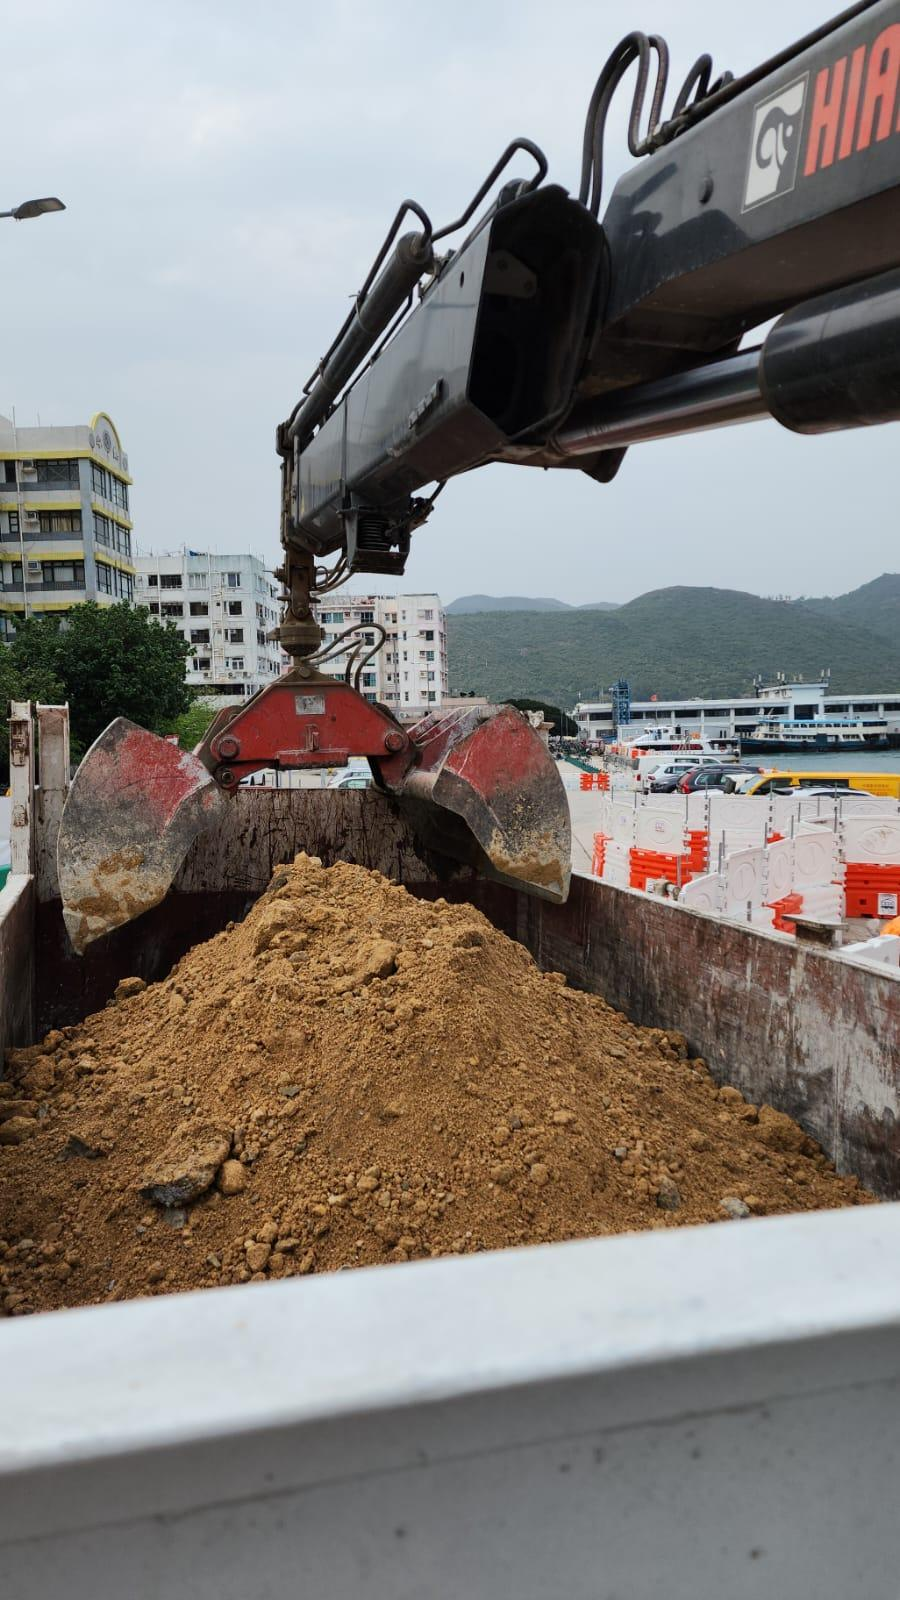dry: (5, 855, 895, 1322)
